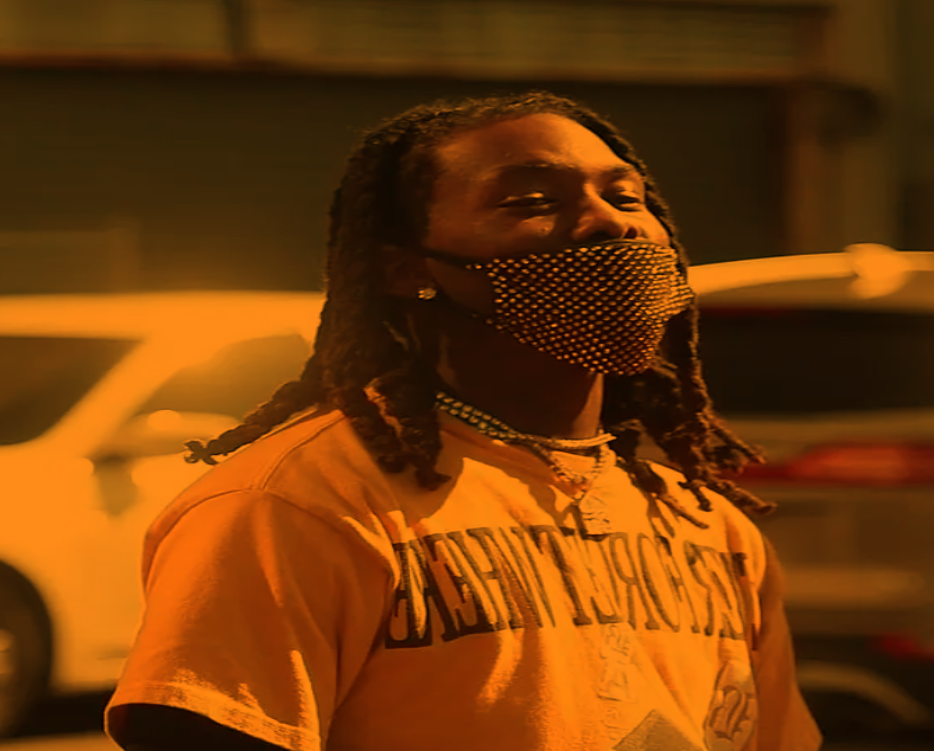mask_weared_incorrect: (333, 90, 701, 377)
